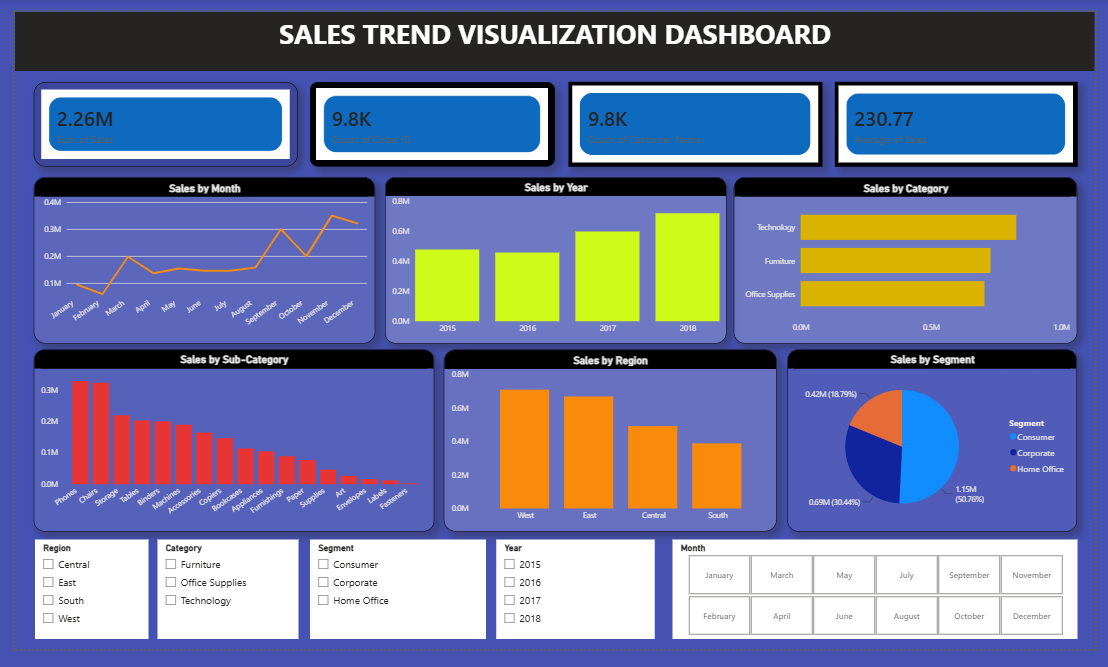

The page's visual inventory and layout, read from the dashboard file:
{"tool":"powerbi","page":{"name":"Page 1","canvas":[1727,1020],"ordinal":0},"visuals":[{"type":"textbox","box":[0,0,1727.4,94.4],"z":0},{"type":"cardVisual","fields":{"Data":["Sum(Cleaned_Superstore_Sales.Sales)"]},"box":[30.9,111.9,422.6,135.1],"z":1000},{"type":"cardVisual","fields":{"Data":["CountNonNull(Cleaned_Superstore_Sales.Order ID)"]},"box":[472.8,111.9,391.7,135.1],"z":2000},{"type":"cardVisual","fields":{"Data":["CountNonNull(Cleaned_Superstore_Sales.Customer Name)"]},"box":[885.7,111.9,405.2,135.1],"z":3000},{"type":"cardVisual","fields":{"Data":["Avg(Cleaned_Superstore_Sales.Sales)"]},"box":[1312.2,111.9,387.9,135.1],"z":4000},{"type":"lineChart","title":"Sales by Month","fields":{"Category":["Cleaned_Superstore_Sales.Order Date.Variation.Date Hierarchy.Month"],"Y":["Sum(Cleaned_Superstore_Sales.Sales)"]},"box":[30.9,264.4,546.1,266.3],"z":5000},{"type":"clusteredColumnChart","title":"Sales by Year","fields":{"Category":["Cleaned_Superstore_Sales.Order Date.Variation.Date Hierarchy.Year"],"Y":["Sum(Cleaned_Superstore_Sales.Sales)"]},"box":[592.5,264.8,546.2,266.6],"z":6000},{"type":"clusteredBarChart","title":"Sales by Category","fields":{"Category":["Cleaned_Superstore_Sales.Category"],"Y":["Sum(Cleaned_Superstore_Sales.Sales)"]},"box":[1150.1,264.4,550,266.3],"z":7000},{"type":"clusteredColumnChart","title":"Sales by Sub-Category","fields":{"Category":["Cleaned_Superstore_Sales.Sub-Category"],"Y":["Sum(Cleaned_Superstore_Sales.Sales)"]},"box":[30.9,540.3,640.7,291.4],"z":8000},{"type":"columnChart","title":"Sales by Region","fields":{"Category":["Cleaned_Superstore_Sales.Region"],"Y":["Sum(Cleaned_Superstore_Sales.Sales)"]},"box":[687,540.3,532.6,291.4],"z":9000},{"type":"pieChart","title":"Sales by Segment","fields":{"Category":["Cleaned_Superstore_Sales.Segment"],"Y":["Sum(Cleaned_Superstore_Sales.Sales)"]},"box":[1236.9,540.3,463.1,291.4],"z":10000},{"type":"slicer","fields":{"Values":["Cleaned_Superstore_Sales.Region"]},"box":[31.5,844.2,181.4,159.2],"z":11000},{"type":"slicer","fields":{"Values":["Cleaned_Superstore_Sales.Category"]},"box":[227.7,844.2,225.9,159.2],"z":12000},{"type":"slicer","fields":{"Values":["Cleaned_Superstore_Sales.Segment"]},"box":[472.1,844.2,281.4,159.2],"z":13000},{"type":"slicer","fields":{"Values":["Cleaned_Superstore_Sales.Order Date.Variation.Date Hierarchy.Year"]},"box":[770.2,844.2,253.6,159.2],"z":14000},{"type":"slicer","fields":{"Values":["Cleaned_Superstore_Sales.Order Date.Variation.Date Hierarchy.Month"]},"box":[1051.6,844.2,648,159.2],"z":14001}]}

Visuals, with their boxes in screenshot pixels (x1, y1, x2, y2), scaled from the page's 1727x1020 canvas onto the 1108x667 screenshot:
textbox: detection(0, 0, 1107, 62)
cardVisual - Sum(Cleaned_Superstore_Sales.Sales): detection(20, 73, 291, 162)
cardVisual - CountNonNull(Cleaned_Superstore_Sales.Order ID): detection(303, 73, 555, 162)
cardVisual - CountNonNull(Cleaned_Superstore_Sales.Customer Name): detection(568, 73, 828, 162)
cardVisual - Avg(Cleaned_Superstore_Sales.Sales): detection(842, 73, 1091, 162)
"Sales by Month" lineChart: detection(20, 173, 370, 347)
"Sales by Year" clusteredColumnChart: detection(380, 173, 731, 347)
"Sales by Category" clusteredBarChart: detection(738, 173, 1091, 347)
"Sales by Sub-Category" clusteredColumnChart: detection(20, 353, 431, 544)
"Sales by Region" columnChart: detection(441, 353, 782, 544)
"Sales by Segment" pieChart: detection(794, 353, 1091, 544)
slicer - Cleaned_Superstore_Sales.Region: detection(20, 552, 137, 656)
slicer - Cleaned_Superstore_Sales.Category: detection(146, 552, 291, 656)
slicer - Cleaned_Superstore_Sales.Segment: detection(303, 552, 483, 656)
slicer - Cleaned_Superstore_Sales.Order Date.Variation.Date Hierarchy.Year: detection(494, 552, 657, 656)
slicer - Cleaned_Superstore_Sales.Order Date.Variation.Date Hierarchy.Month: detection(675, 552, 1090, 656)
